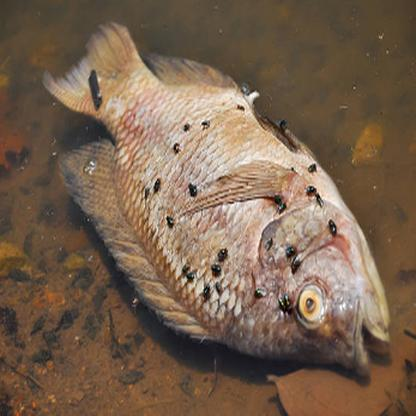deceased fish: (45, 29, 393, 380)
